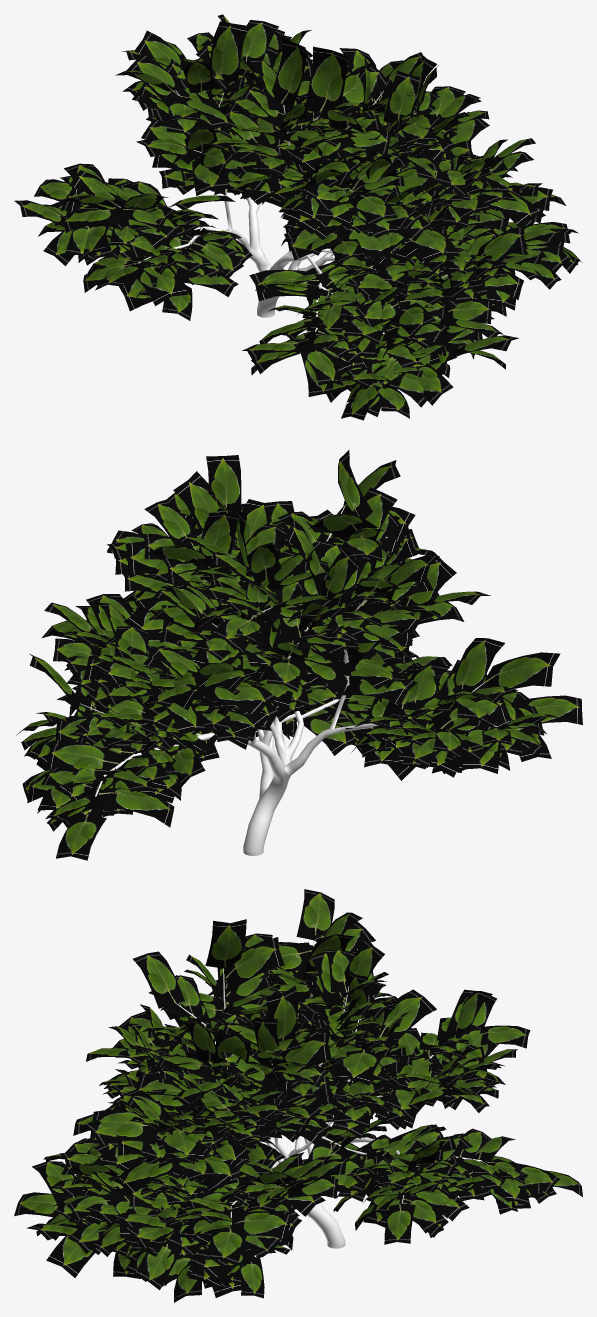
The model's file is tree.001.gltf.
The picture shows the model from 3 angles, top to bottom: view 1: azimuth 30°, elevation 25°; view 2: azimuth 150°, elevation 25°; view 3: azimuth 270°, elevation 25°; orthographic projection. The views are drawn at different scales.
Visible parts, largest first — view 1: tree.001; view 2: tree.001; view 3: tree.001.
Part boxes in pixels (<box>): tree.001: <box>14,14,582,420</box>; tree.001: <box>16,450,582,860</box>; tree.001: <box>14,889,582,1302</box>.
Bounding box in the file's own units: 1.25 × 0.7658 × 1.26.
2 materials, 1 textured.
